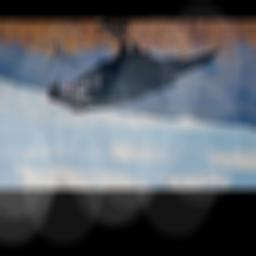Crow: (45, 21, 221, 113)
